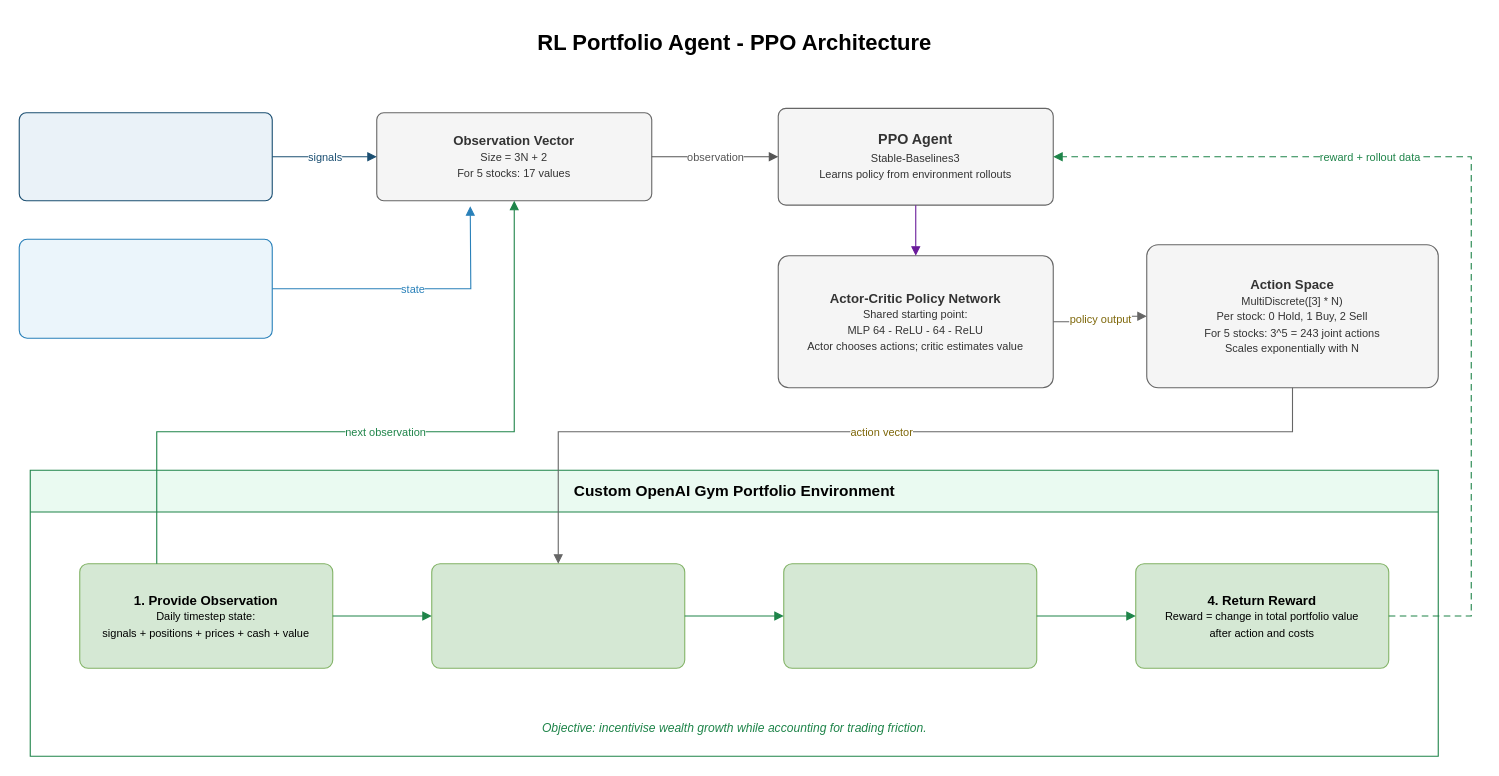
The diagram is 1499 pixels wide and 776 high, and some of its shapes have lost their labels. Each missing label, with the centre of its shape:
"2. Apply Actions Buy, sell, or hold each stock Update shares and cash" belongs at (x=558, y=615).
"3. Transaction Costs Deduct fixed cost: 0.1% per trade" belongs at (x=910, y=615).
"Market + Portfolio State Current prices, positions, cash, total portfolio value" belongs at (x=145, y=288).
"Stage 1: LSTM Signals Directional probability per stock 0 = bearish, 1 = bullish" belongs at (x=145, y=156).
